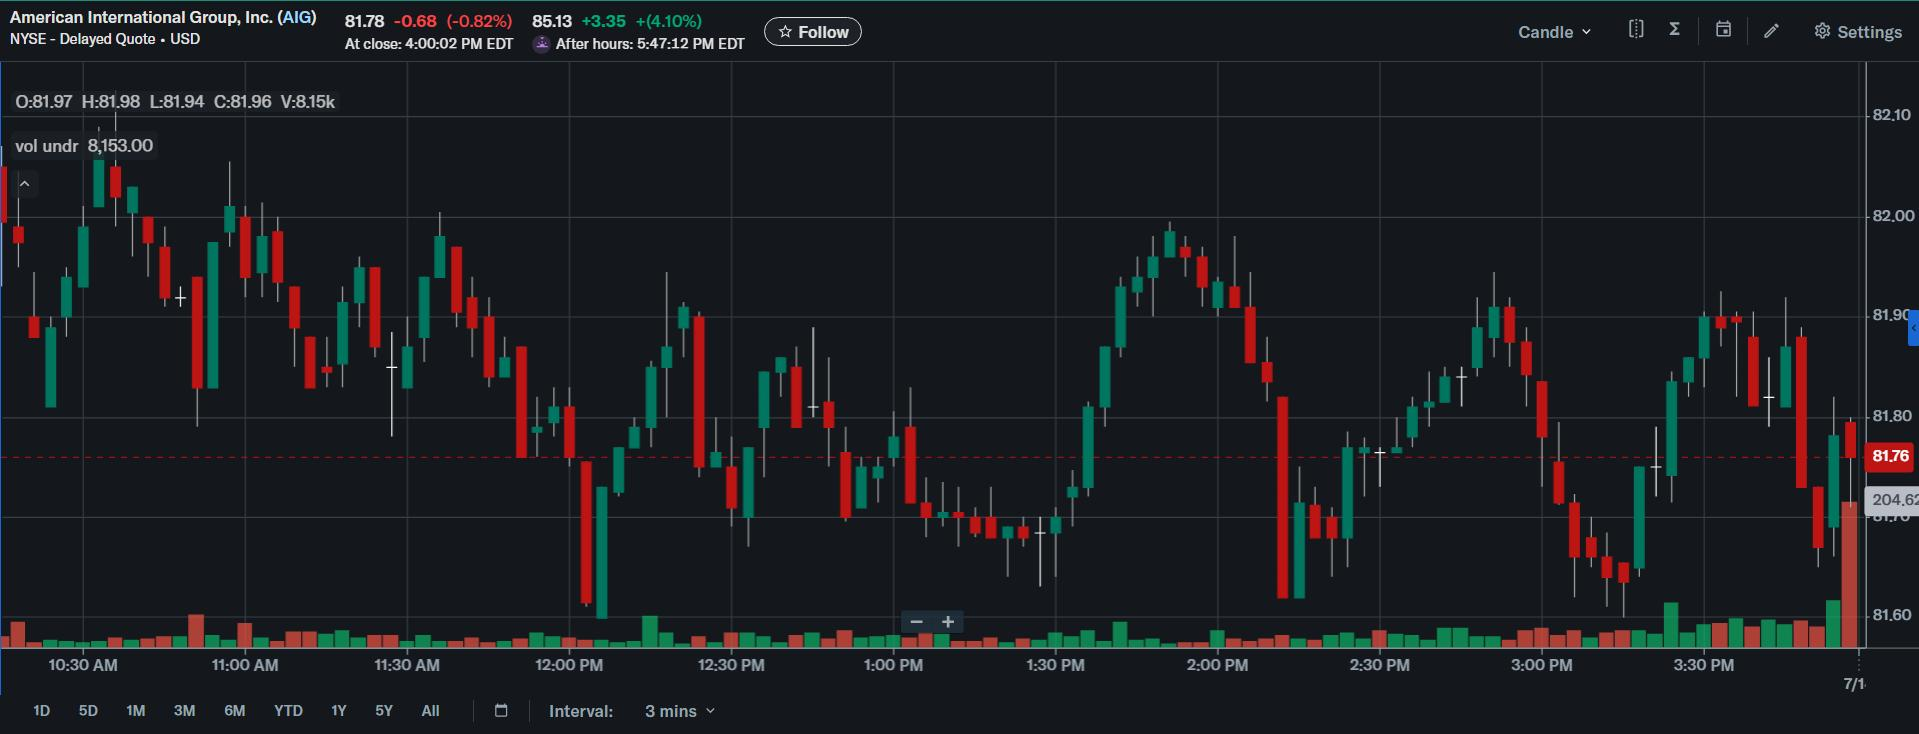Downtrend: (1230, 252, 1319, 610)
Sideways: (1336, 278, 1828, 585), (185, 199, 504, 418), (601, 306, 863, 536)
Uptrend: (1050, 212, 1175, 564), (24, 154, 103, 416)
